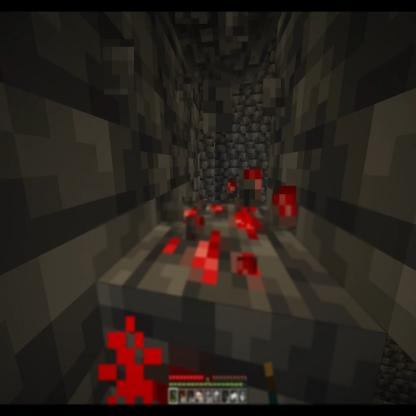redstone ore: (92, 201, 378, 416)
